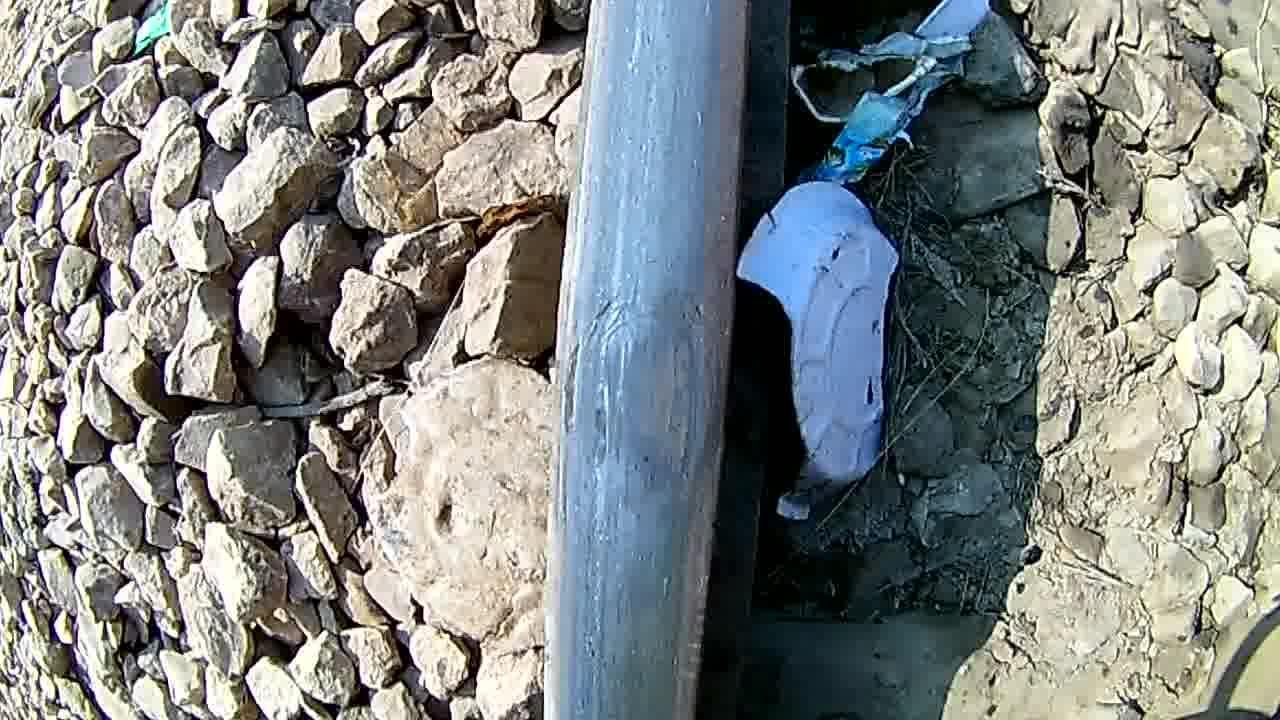crack: (561, 215, 733, 576)
